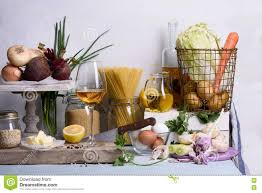Carrot: (221, 29, 239, 91)
Onion: (194, 141, 219, 166), (2, 62, 23, 80)
